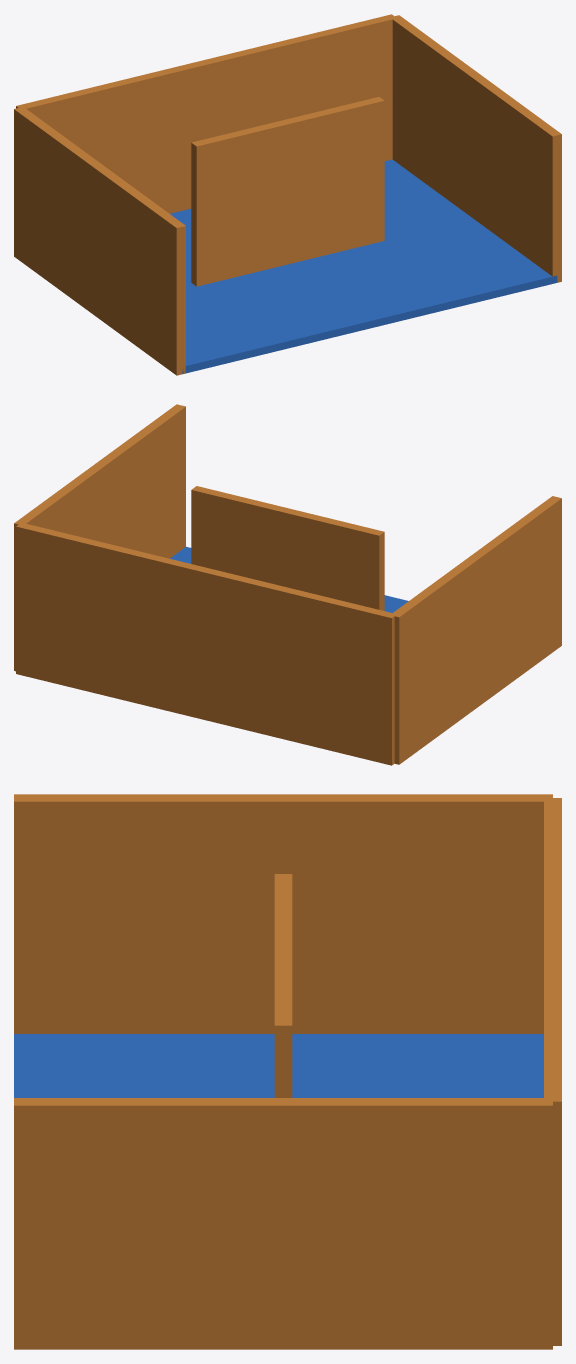
The model's file is input.glb.
3 renders of one model, top to bottom at view 1: azimuth 30°, elevation 25°; view 2: azimuth 150°, elevation 25°; view 3: azimuth 270°, elevation 25°, orthographic. The views are drawn at different scales.
Bounding box in the file's own units: 8.2 × 3 × 6.1.
